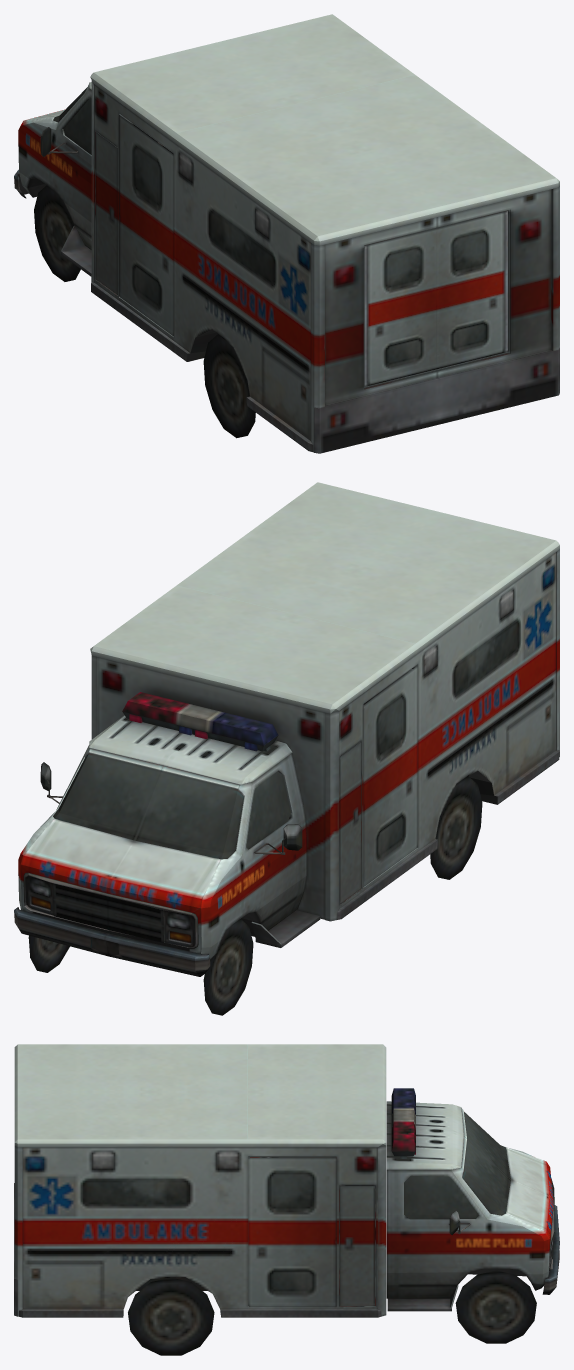
Rendered from Ambulance.fbx.
3 views of the same model, one above another, from view 1: azimuth 30°, elevation 25°; view 2: azimuth 150°, elevation 25°; view 3: azimuth 270°, elevation 25° (orthographic). The views are drawn at different scales.
Parts seen in each view (by area): view 1: Ambulance; view 2: Ambulance; view 3: Ambulance.
Part boxes in pixels (x1,y1,x2,y2): Ambulance: (14, 14, 559, 453); Ambulance: (14, 482, 559, 1015); Ambulance: (14, 1044, 559, 1355).
Size of the model in its own units: 304 by 298 by 676.
